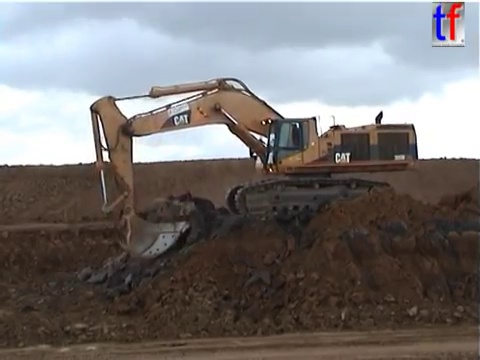excavator: (85, 74, 421, 262)
